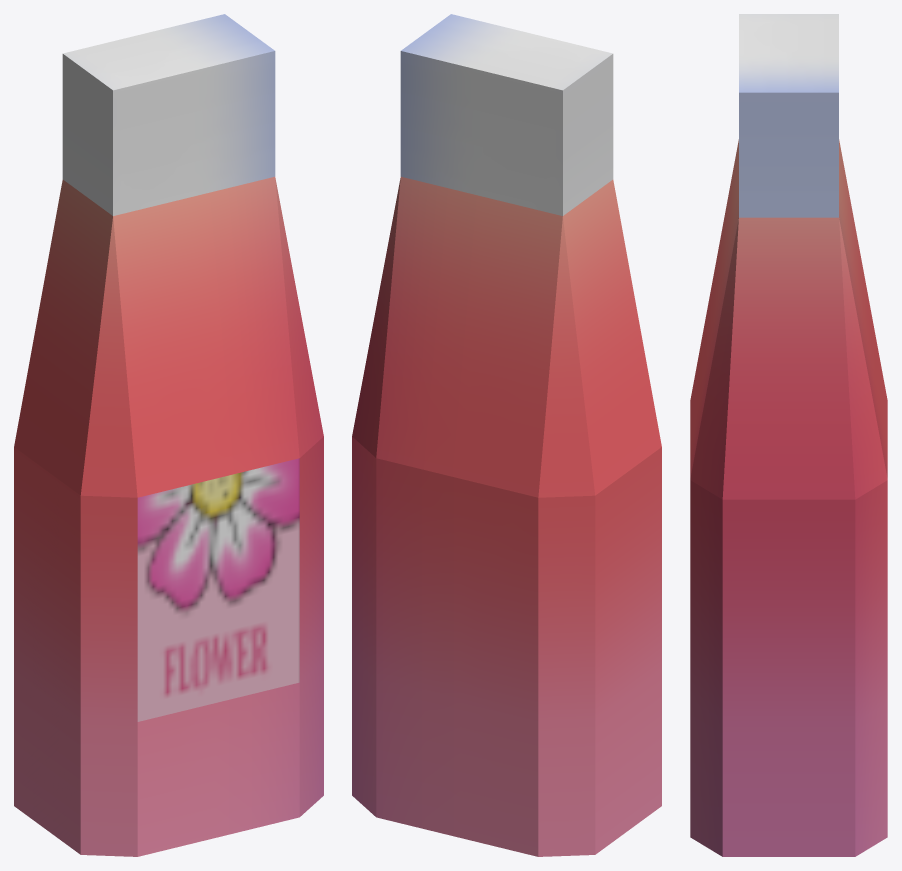
The model's file is giftgoods108g.fbx.
The picture shows the model from 3 angles, left to right: view 1: azimuth 30°, elevation 25°; view 2: azimuth 150°, elevation 25°; view 3: azimuth 270°, elevation 25°; orthographic projection.
Visible parts, largest first — view 1: giftgoods108g; view 2: giftgoods108g; view 3: giftgoods108g.
Boxes of the visible parts, bbox=[...] form: giftgoods108g: bbox=[14, 14, 323, 856]; giftgoods108g: bbox=[352, 14, 661, 856]; giftgoods108g: bbox=[690, 14, 887, 856].
Size of the model in its own units: 0.0443 by 0.1303 by 0.0313.
